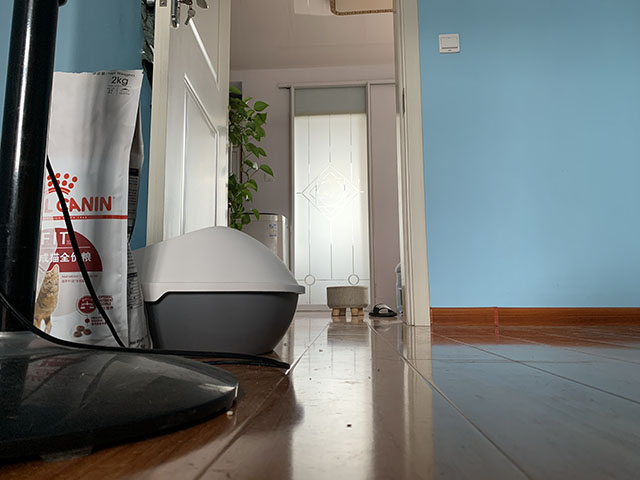slippers: (367, 302, 398, 318)
stool: (326, 285, 371, 317)
wire: (1, 154, 292, 372)
